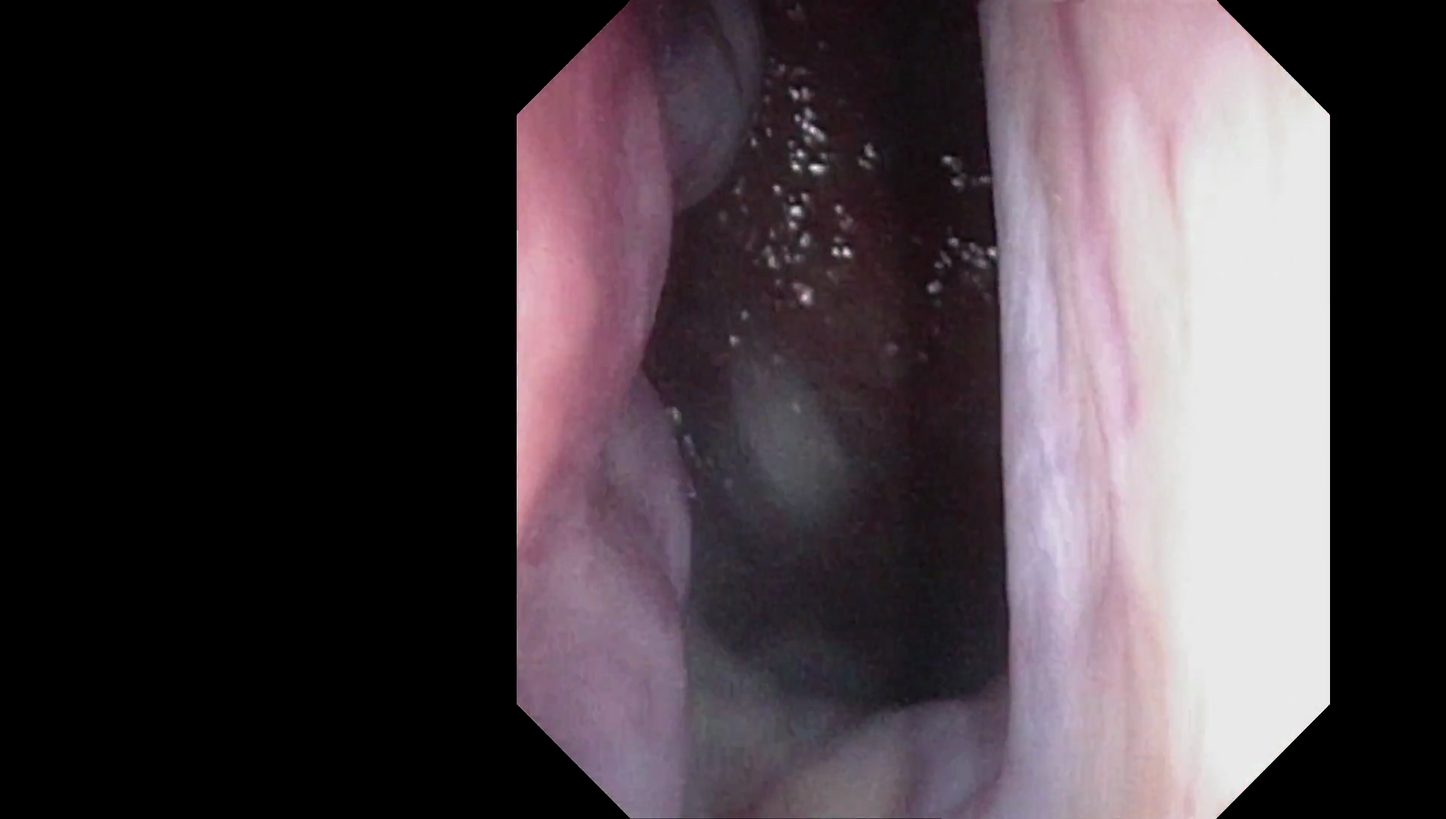close_wall: (1017, 78, 1324, 703)
next: (669, 370, 1069, 753)
